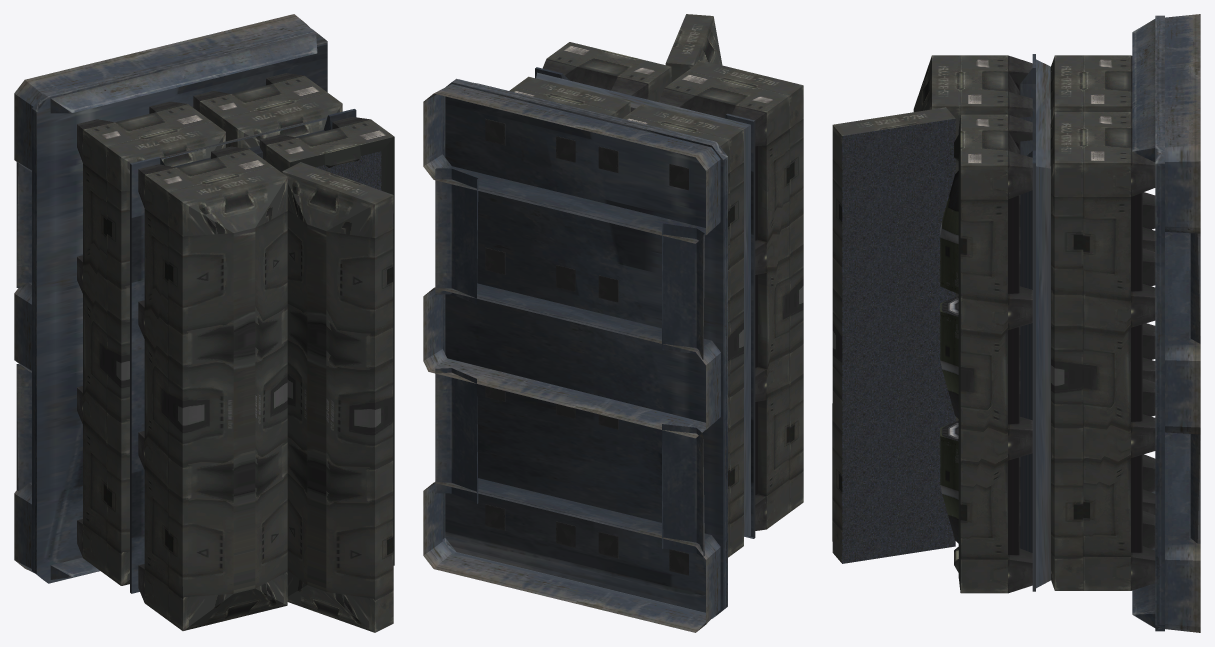
File: p_glo_bomb_stack_LOD2.obj
3 renders of one model, left to right at view 1: azimuth 30°, elevation 25°; view 2: azimuth 150°, elevation 25°; view 3: azimuth 270°, elevation 25°, orthographic. The views are drawn at different scales.
Parts seen in each view (by area): view 1: mtl_p_glo_bomb_stack_01, mtl_p_glo_bomb_stack_06, mtl_p_glo_bomb_stack_04; view 2: mtl_p_glo_bomb_stack_06, mtl_p_glo_bomb_stack_01; view 3: mtl_p_glo_bomb_stack_01, mtl_p_glo_bomb_stack_06, mtl_p_glo_bomb_stack_04, mtl_p_glo_bomb_stack_05.
Part boxes in pixels (x1=…): mtl_p_glo_bomb_stack_01: x1=77, y1=73, x2=394, y2=632; mtl_p_glo_bomb_stack_06: x1=14, y1=14, x2=356, y2=593; mtl_p_glo_bomb_stack_04: x1=316, y1=151, x2=393, y2=550; mtl_p_glo_bomb_stack_06: x1=423, y1=67, x2=755, y2=632; mtl_p_glo_bomb_stack_01: x1=485, y1=14, x2=803, y2=575; mtl_p_glo_bomb_stack_01: x1=832, y1=55, x2=1155, y2=593; mtl_p_glo_bomb_stack_06: x1=1020, y1=14, x2=1200, y2=632; mtl_p_glo_bomb_stack_04: x1=842, y1=118, x2=955, y2=563; mtl_p_glo_bomb_stack_05: x1=940, y1=171, x2=958, y2=543.
Bounding box in the file's own units: 130 × 209 × 143.
